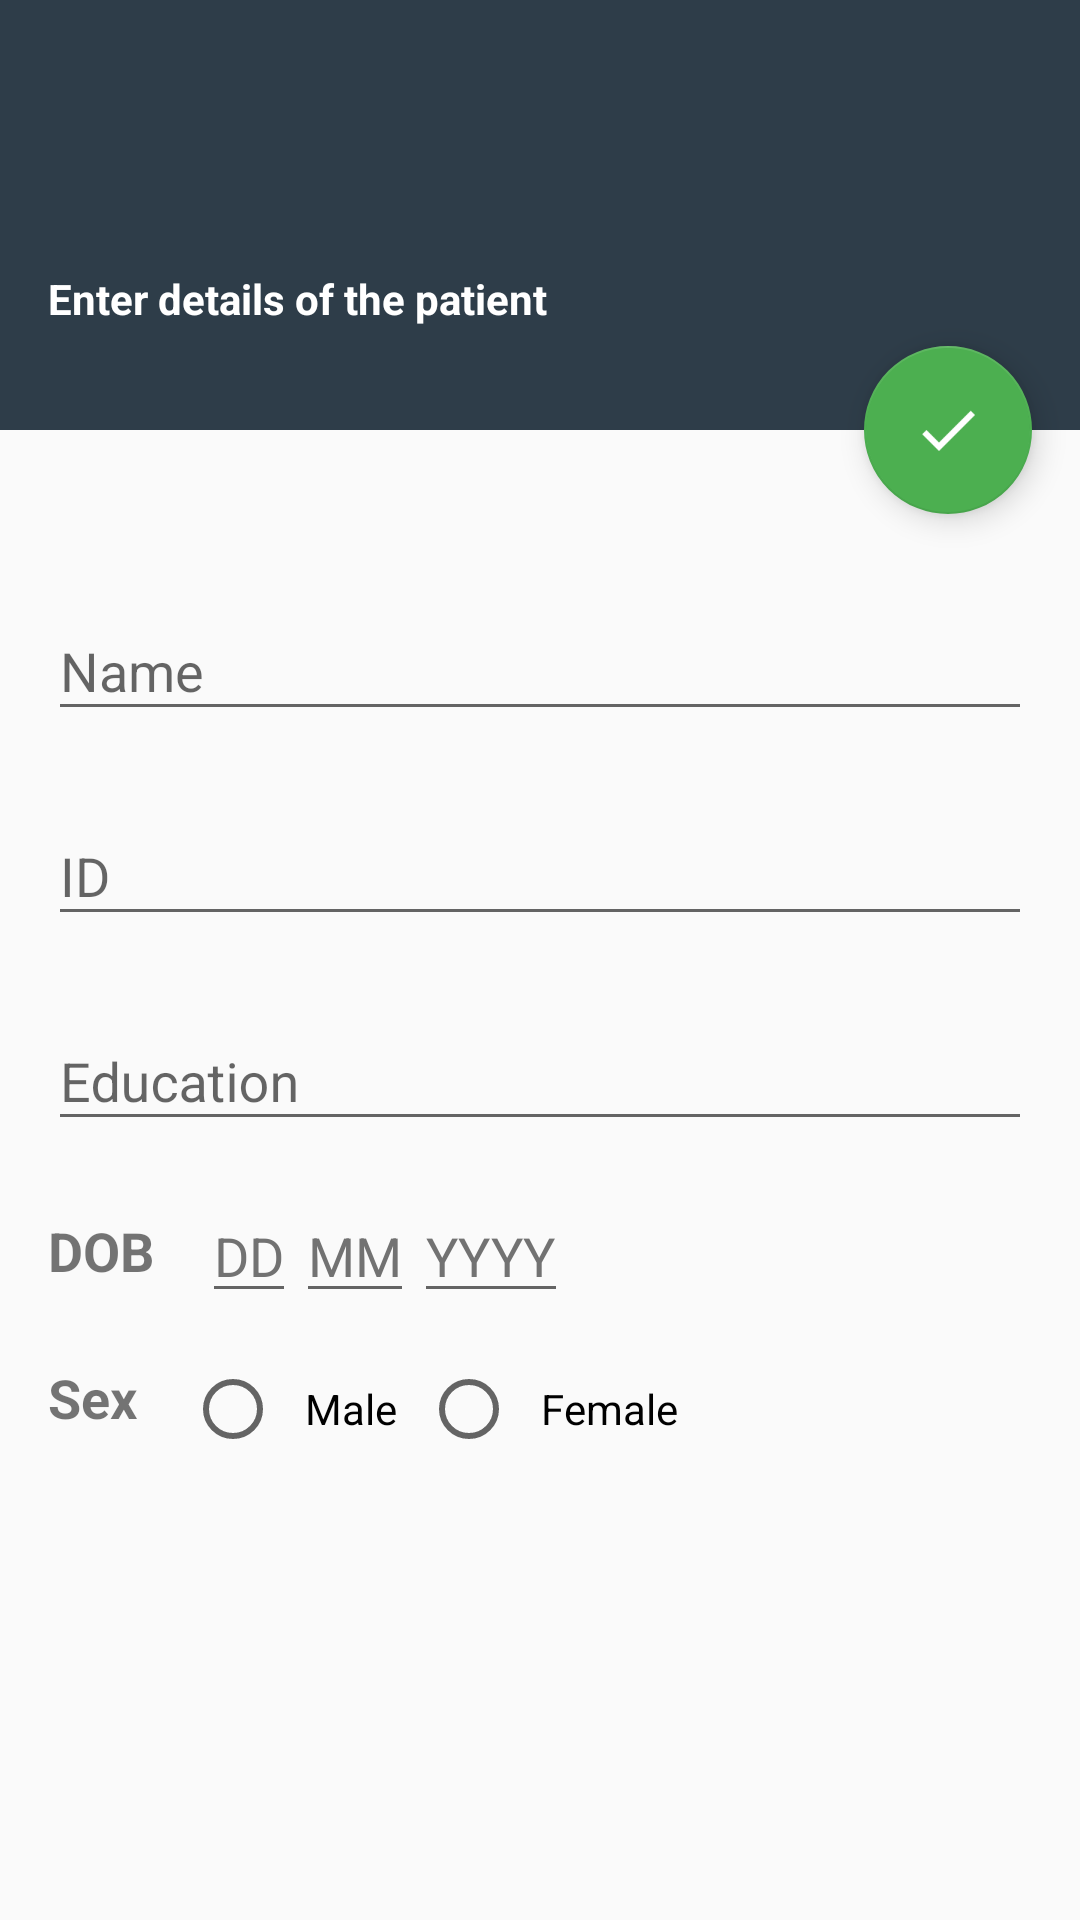

Screen size 1080px x 1920px. Icon name, then its center in pixels as (x,y):
check: (948,430)
